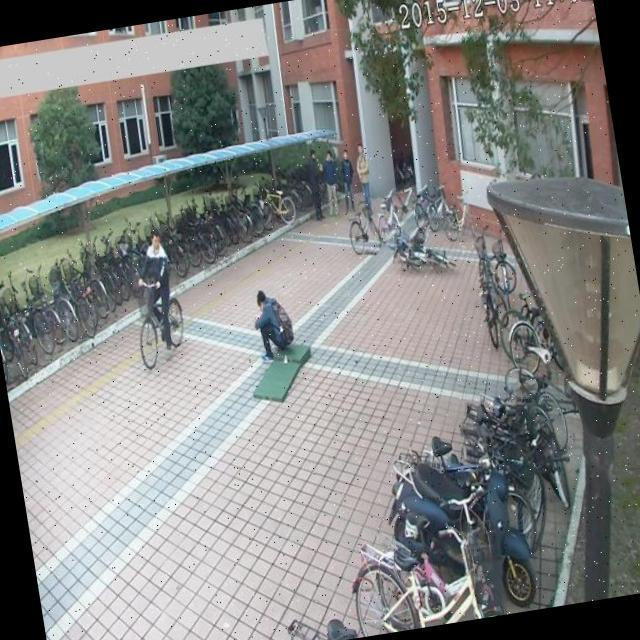person: (132, 228, 182, 352), (246, 278, 302, 369), (351, 140, 382, 223), (316, 146, 346, 218), (334, 146, 364, 216), (303, 143, 328, 221)
